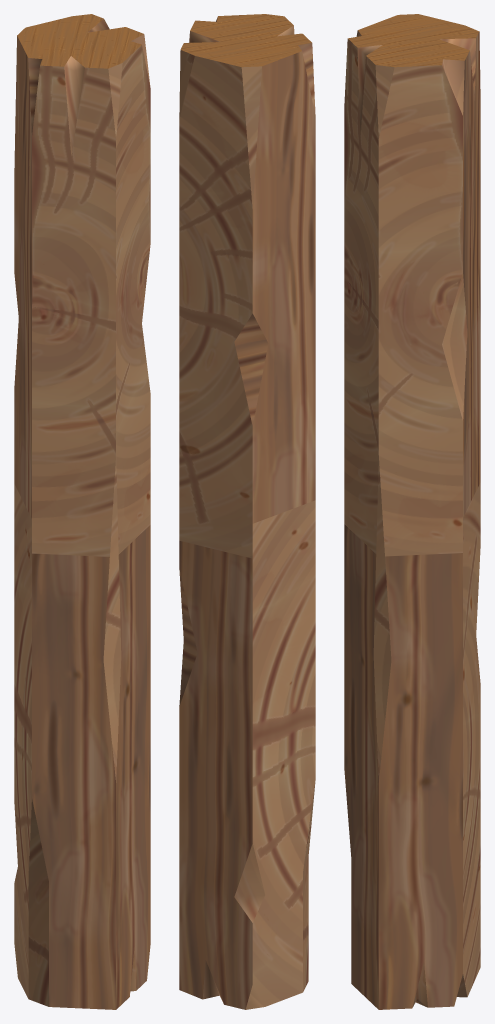
Rendered from obj_harvest_resource_wood.fbx.
The picture shows the model from 3 angles, left to right: view 1: azimuth 30°, elevation 25°; view 2: azimuth 150°, elevation 25°; view 3: azimuth 330°, elevation 25°; orthographic projection.
Visible parts, largest first — view 1: resource_wood_low; view 2: resource_wood_low; view 3: resource_wood_low.
Boxes of the visible parts, x1,y1,x2,y2 form: resource_wood_low: (14,14,150,1009); resource_wood_low: (179,14,315,1009); resource_wood_low: (344,14,480,1009).
Size of the model in its own units: 1.05 by 8 by 1.
